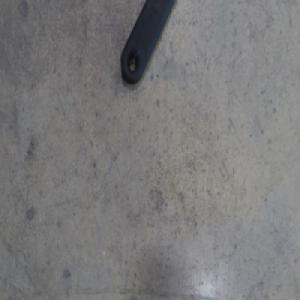AdjustableWrench: (121, 0, 172, 84)
